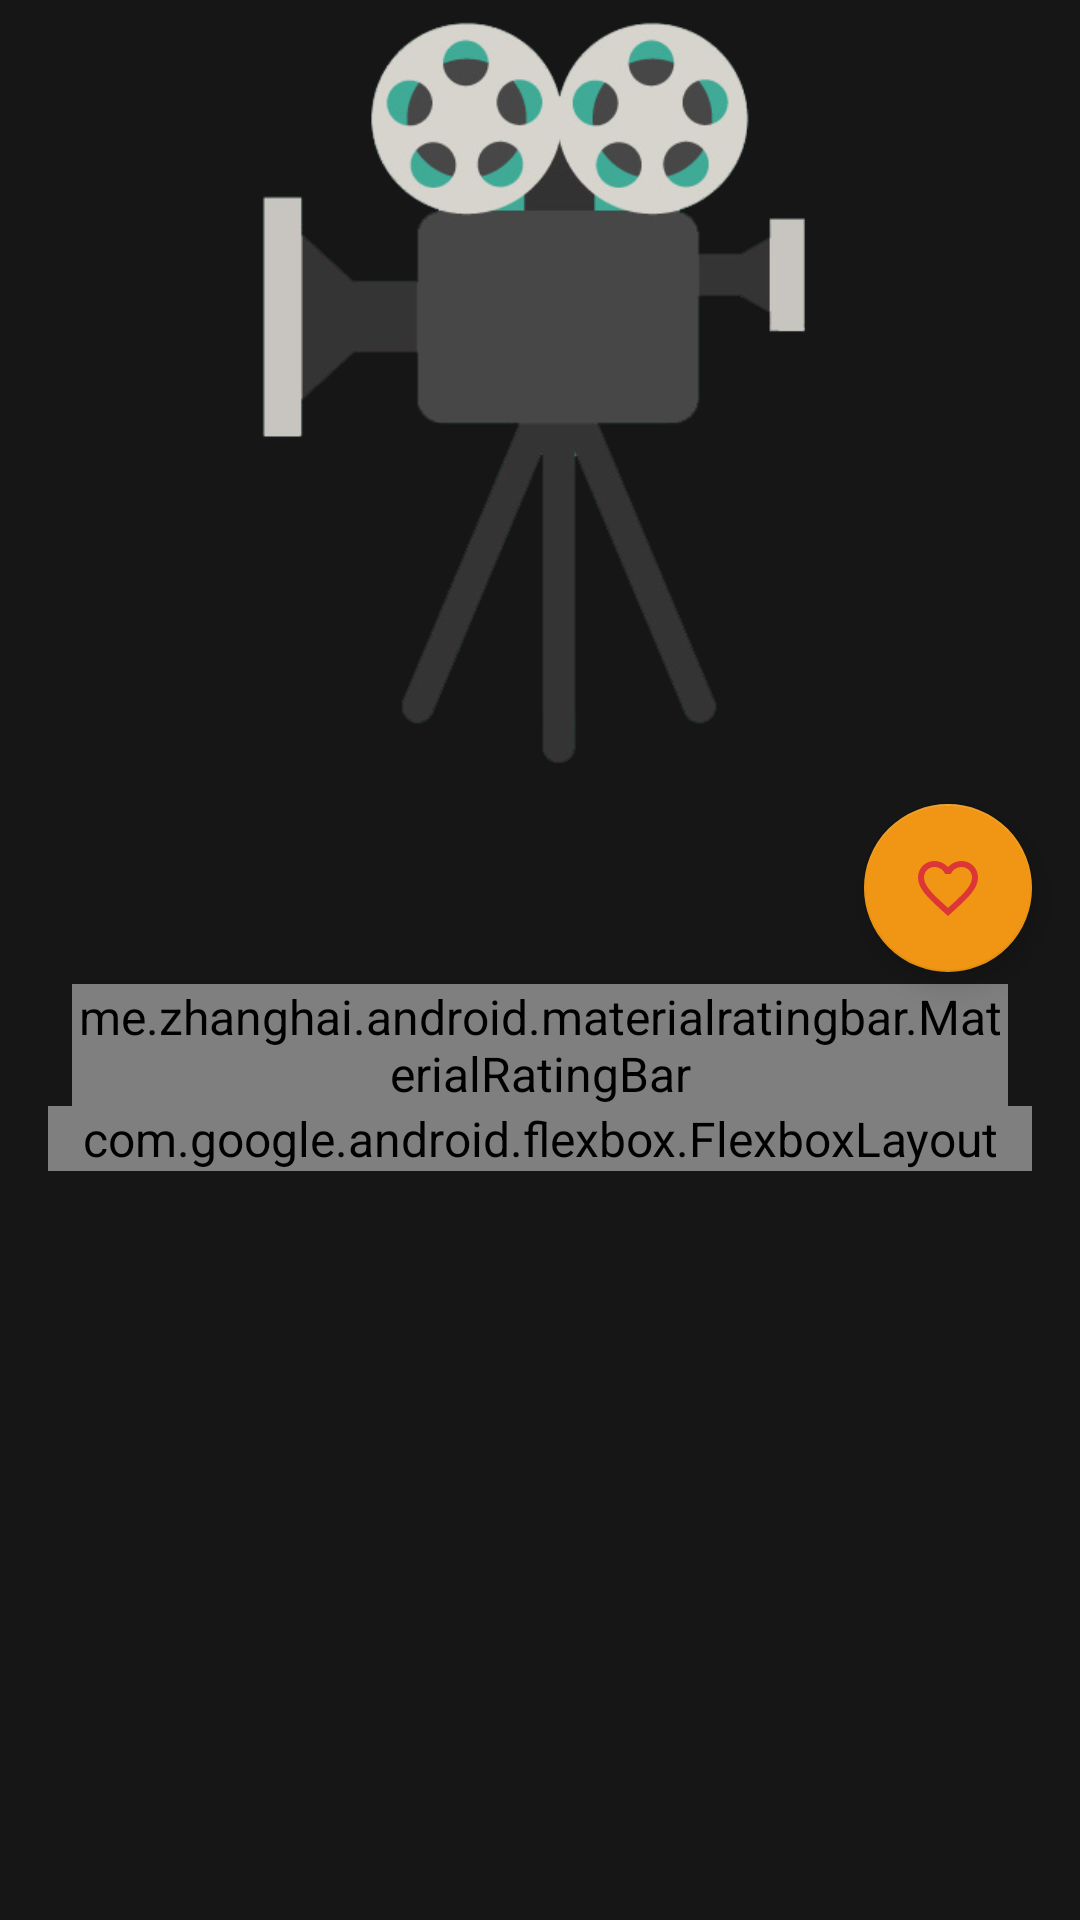

Where to tap for icons on this 1080x1920 app screen, as [x,y]:
heart: [948,888]
